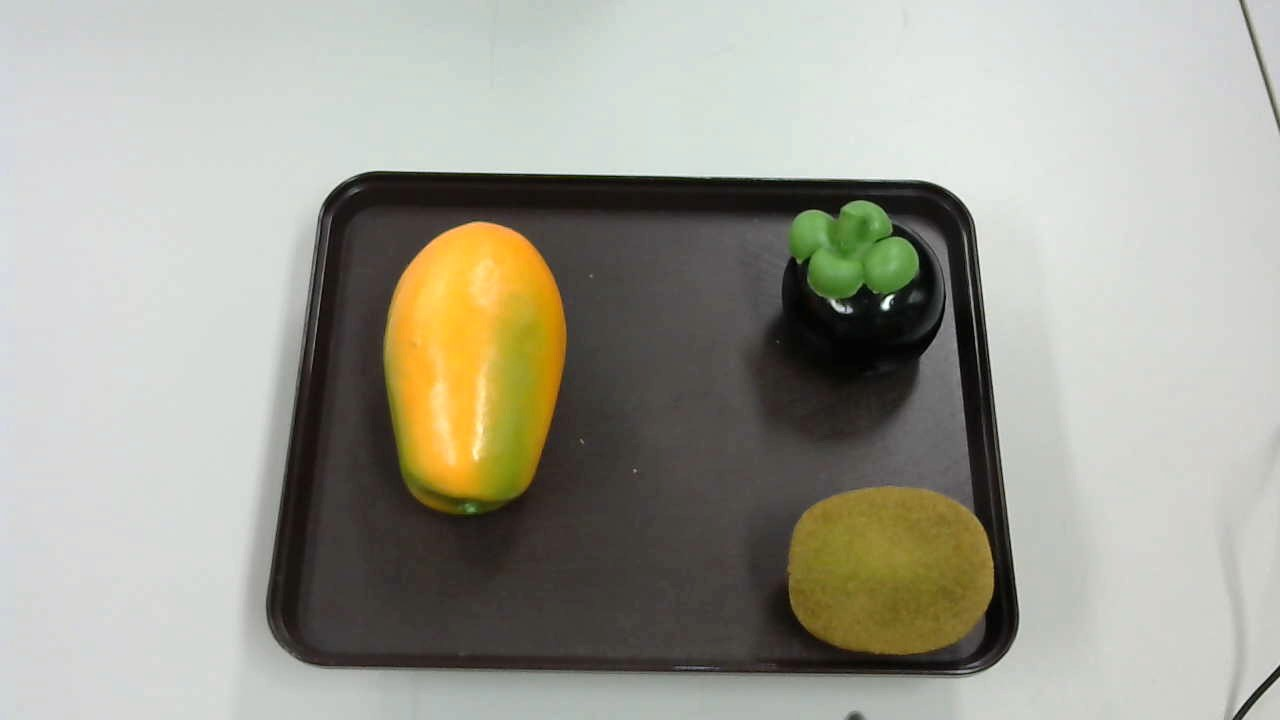kiwi fruit: (779, 484, 991, 666)
mangosteen: (777, 198, 948, 378)
papya: (376, 217, 572, 520)
